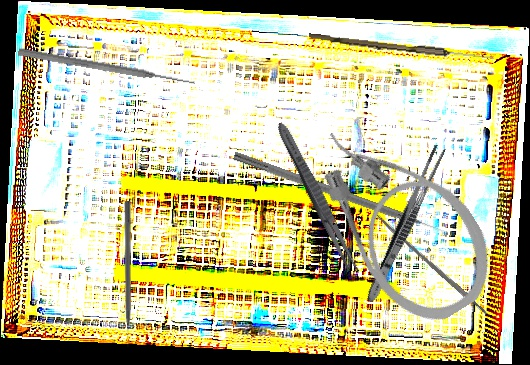Cannula: (296, 93, 512, 340)
Dressing Forceps: (272, 119, 364, 278), (363, 143, 447, 305)
Hook Surgical: (231, 151, 450, 240)
Pusher: (17, 46, 196, 89), (123, 201, 131, 347)
Scalpel Handle: (374, 212, 489, 318)
Surgical Spoon: (308, 33, 495, 62)
